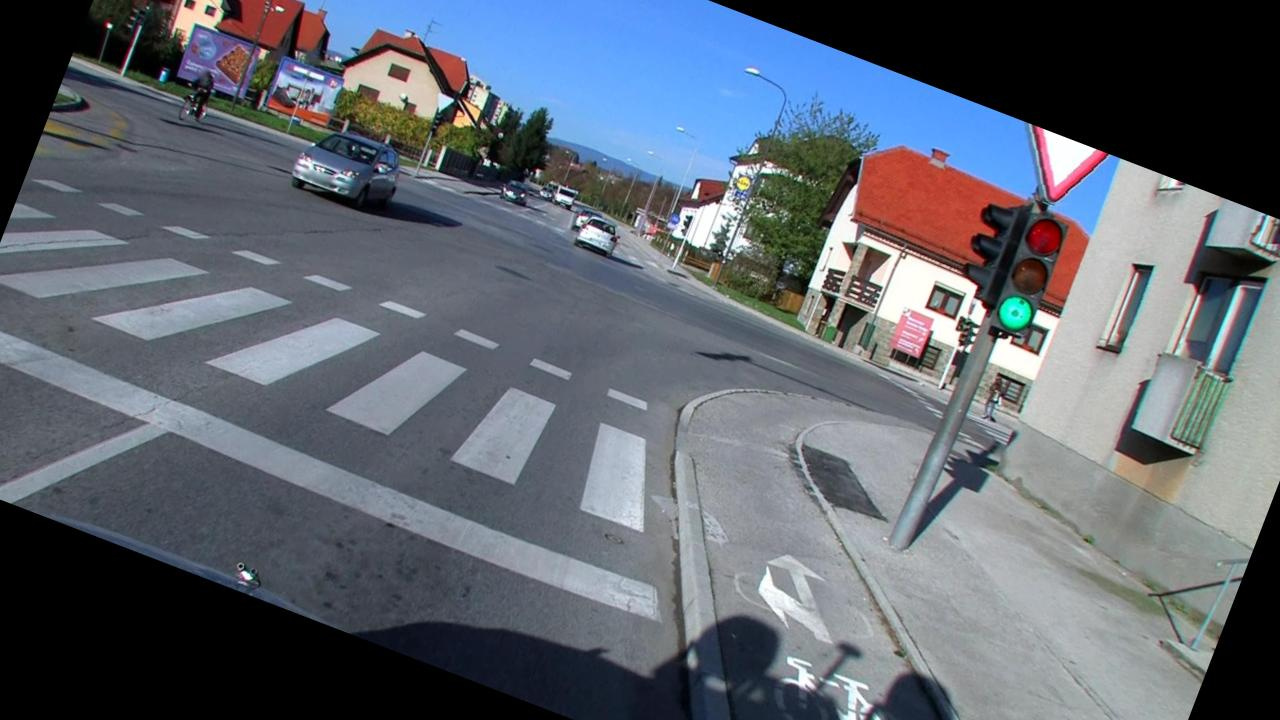Triangle: (1002, 124, 1114, 222)
